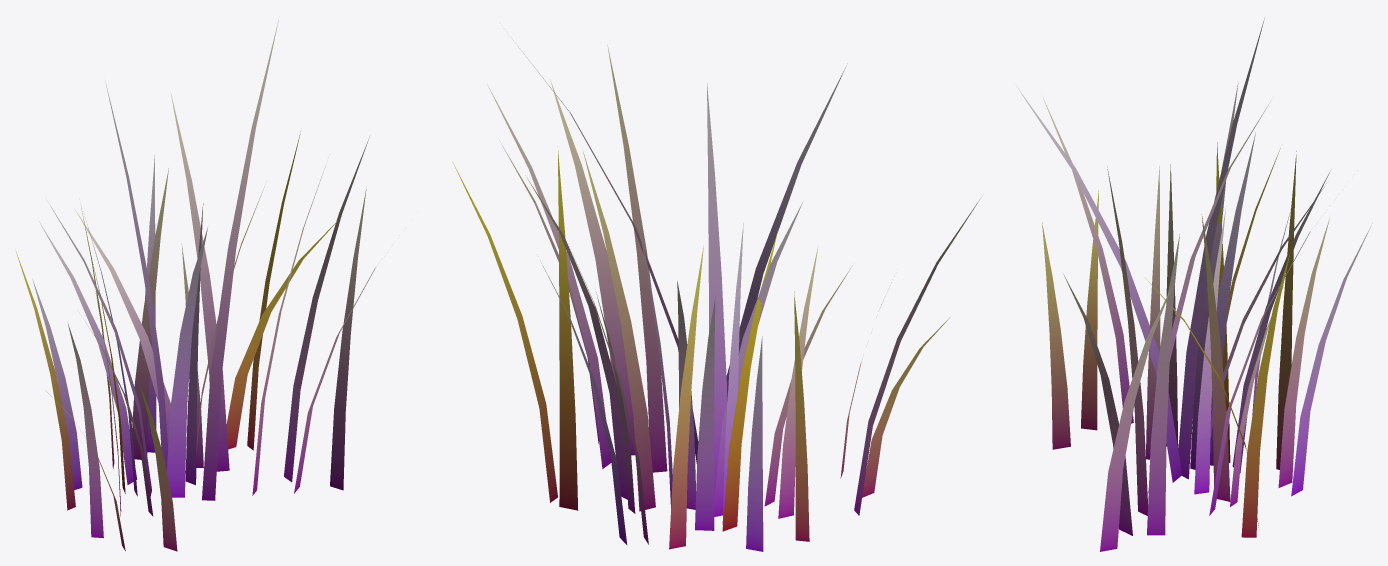
File: grass_clump_a.glb
3 renders of one model, left to right at view 1: azimuth 30°, elevation 25°; view 2: azimuth 150°, elevation 25°; view 3: azimuth 270°, elevation 25°, orthographic. The views are drawn at different scales.
Parts seen in each view (by area): view 1: grass_clump_a; view 2: grass_clump_a; view 3: grass_clump_a.
Boxes of the visible parts, x1,y1,x2,y2 form: grass_clump_a: [16, 19, 375, 551]; grass_clump_a: [452, 37, 981, 551]; grass_clump_a: [1016, 18, 1372, 551].
Bounding box in the file's own units: 0.2767 × 0.3002 × 0.2105.
